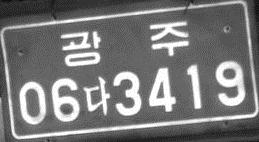0: (18, 80, 46, 126)
1: (181, 66, 208, 110)
3: (112, 70, 142, 117)
4: (148, 67, 176, 112)
6: (50, 77, 79, 122)
9: (215, 60, 246, 106)
광주_D: (59, 20, 189, 66)
다: (82, 75, 110, 115)
